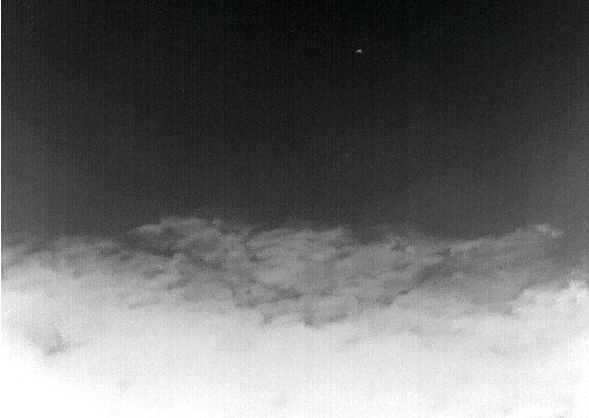dim target: (355, 47, 363, 55)
